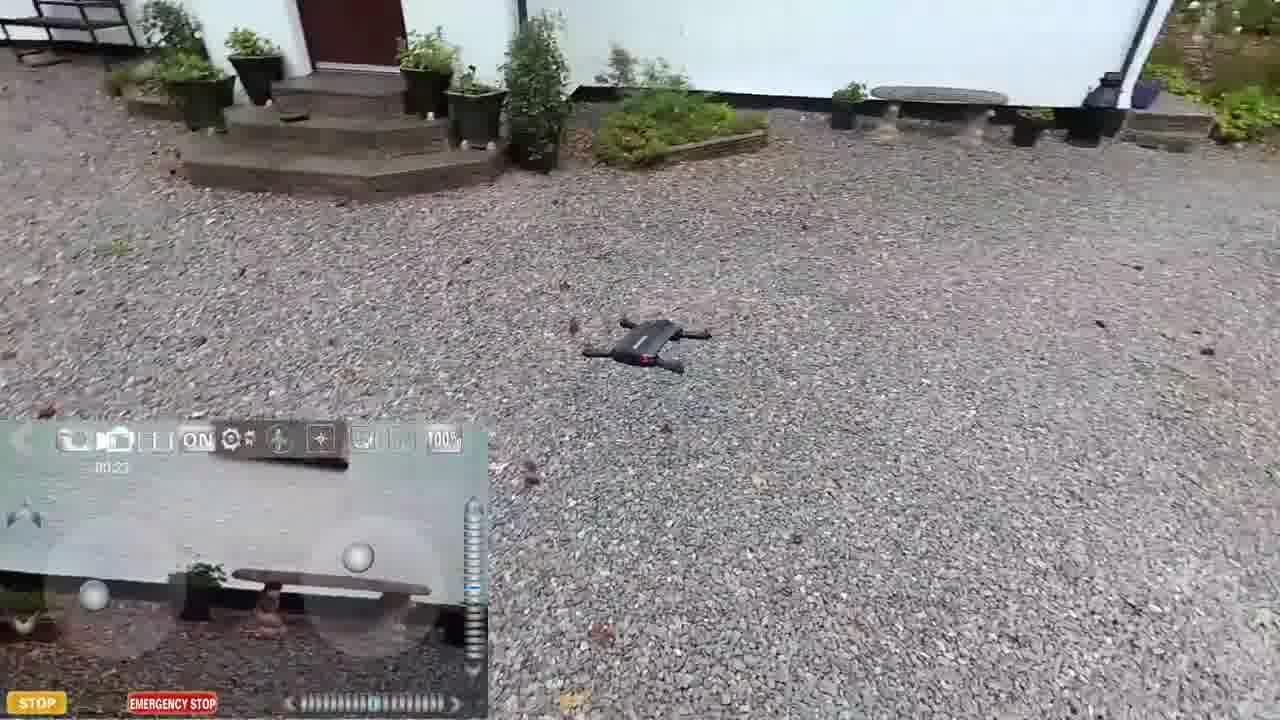drone: (577, 297, 713, 390)
